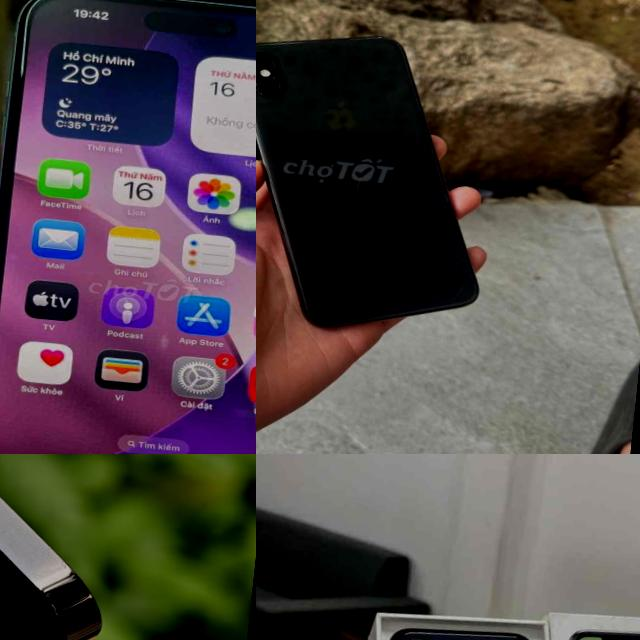scratch: (410, 238, 492, 314), (348, 163, 390, 209), (318, 34, 347, 56)
